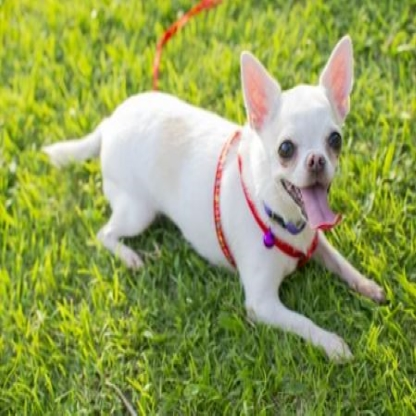chihuahua: (38, 34, 386, 364)
